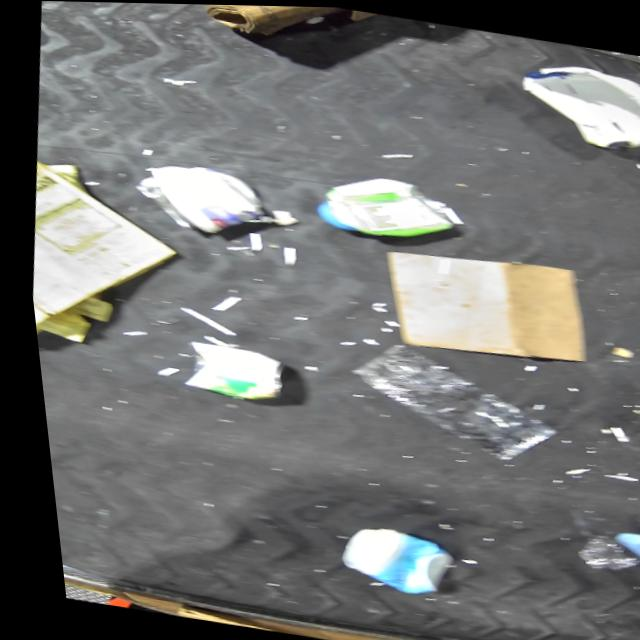can: (125, 156, 270, 242), (169, 338, 284, 404)
